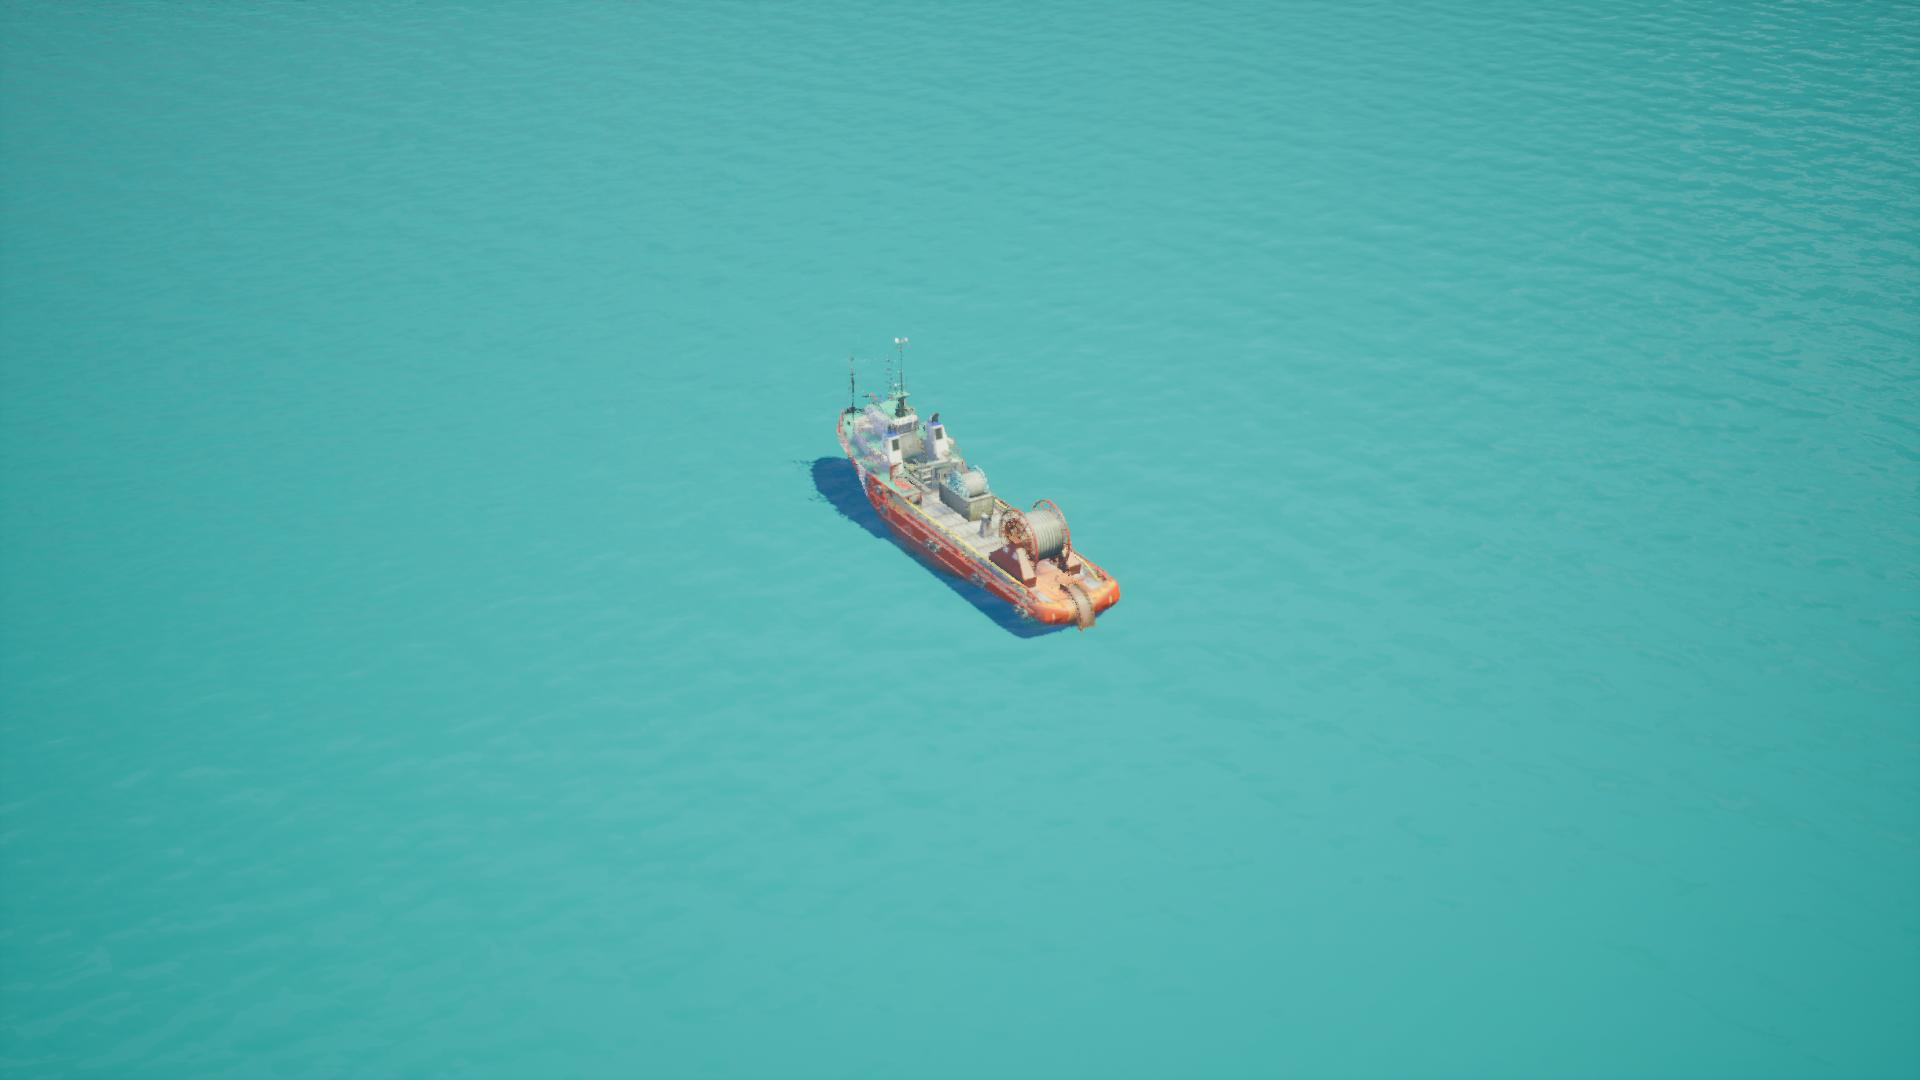Tug Boat: (836, 328, 1133, 721)
